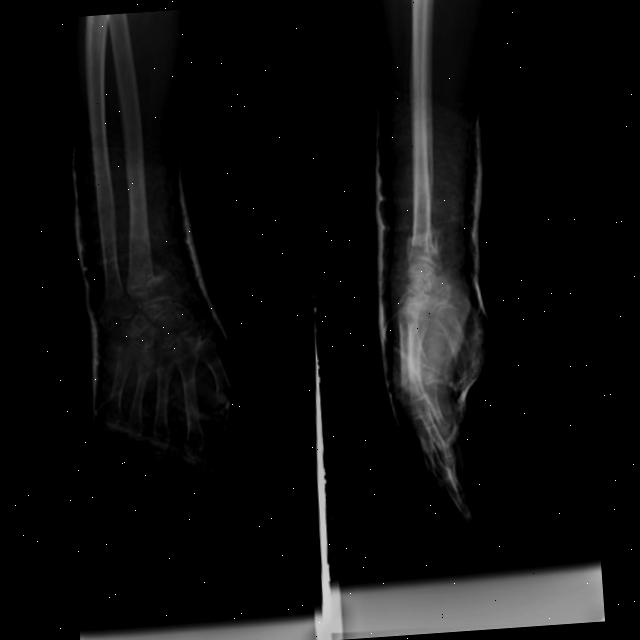Fracture: (404, 225, 439, 258), (127, 267, 169, 294)
